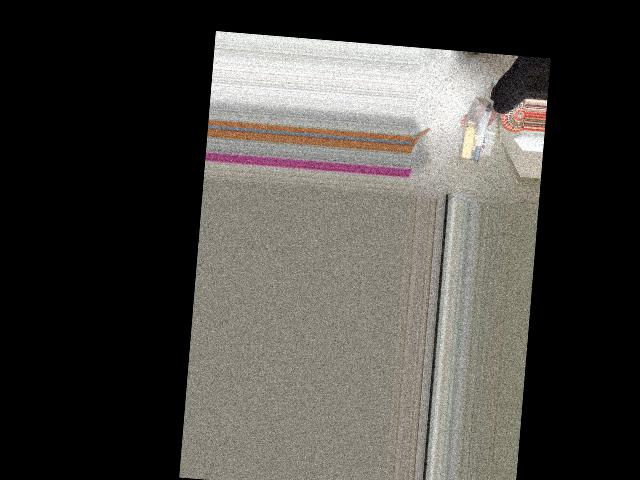cheese: (458, 97, 493, 162)
